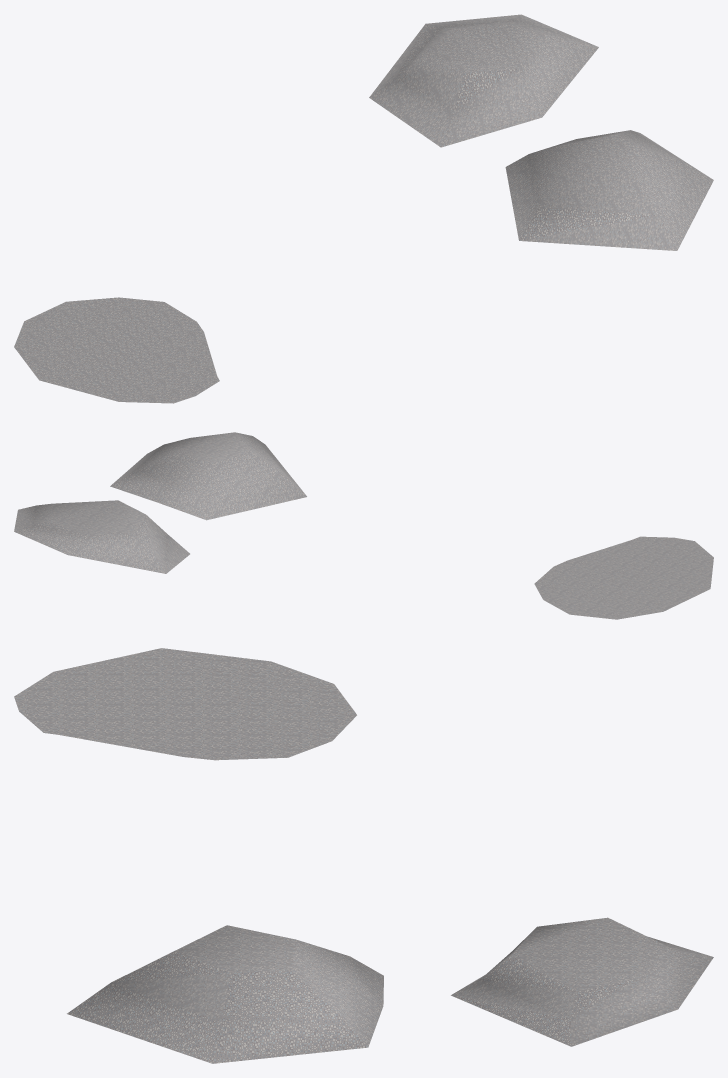
The model's file is kd_stage_136282_2_13.glb.
3 views of the same model, one above another, from view 1: azimuth 30°, elevation 25°; view 2: azimuth 150°, elevation 25°; view 3: azimuth 270°, elevation 25° (orthographic). The views are drawn at different scales.
Parts seen in each view (by area): view 1: kd_stage_136282_2_13; view 2: kd_stage_136282_2_13; view 3: kd_stage_136282_2_13.
Boxes of the visible parts, left/top/right/bottom form: kd_stage_136282_2_13: left=14, top=14, right=713, bottom=403; kd_stage_136282_2_13: left=14, top=432, right=713, bottom=619; kd_stage_136282_2_13: left=14, top=648, right=713, bottom=1063.
Size of the model in its own units: 66.81 by 5.72 by 43.7.
1 material, 1 textured.
